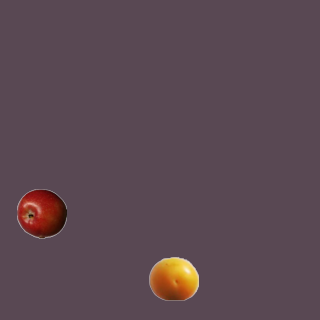Apple Braeburn: (16, 188, 66, 238)
Cherry Wax Yellow: (148, 253, 198, 303)
